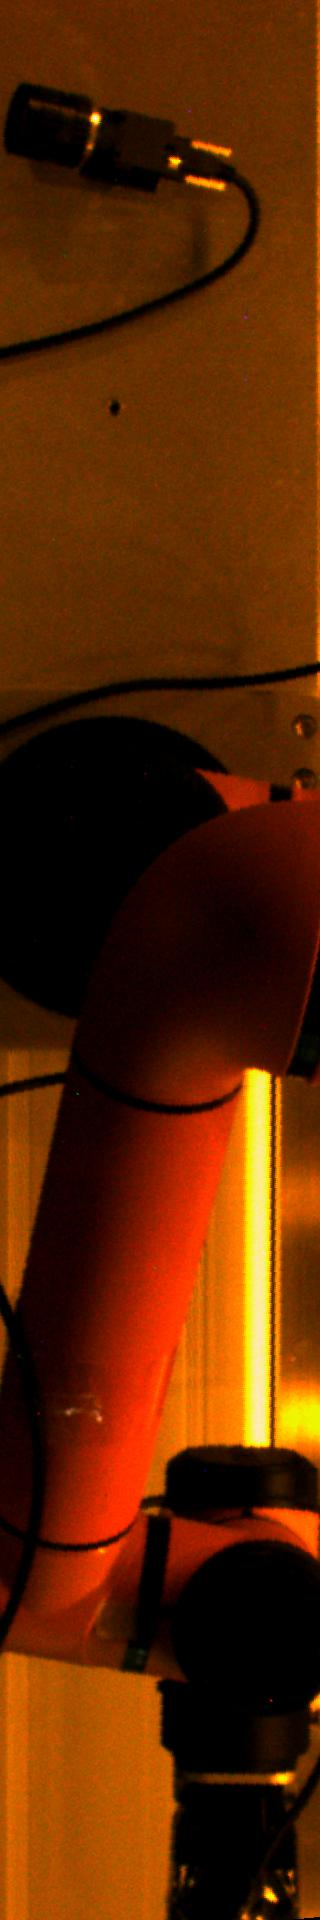keyPoint_2: (99, 394, 129, 424)
